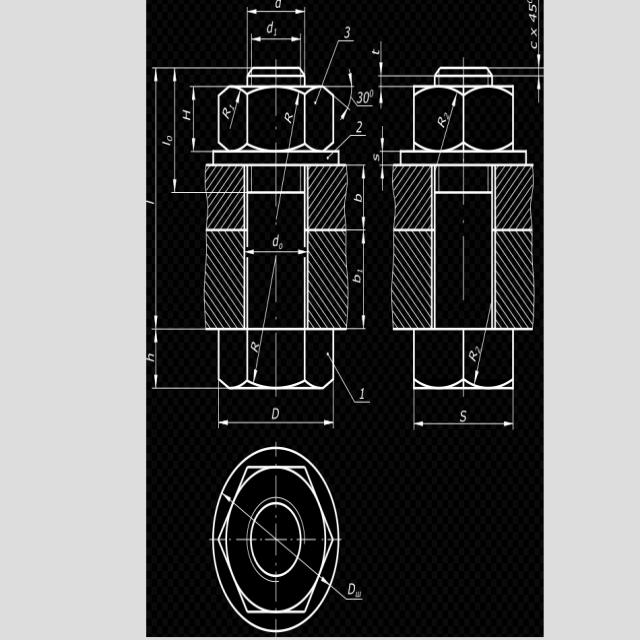marking_line: (255, 262, 278, 382), (473, 306, 492, 383), (153, 68, 158, 326), (220, 418, 333, 425), (340, 68, 353, 121), (415, 421, 513, 427), (173, 70, 177, 193), (361, 231, 366, 328), (230, 94, 243, 129), (246, 249, 306, 256), (361, 167, 367, 231), (190, 87, 196, 150), (248, 9, 304, 15), (252, 36, 300, 43), (154, 329, 158, 388), (379, 41, 385, 75), (379, 167, 386, 192), (379, 126, 385, 150), (378, 87, 384, 108)
numeric: (526, 0, 537, 51), (357, 89, 374, 105), (436, 111, 450, 128), (220, 103, 234, 119), (271, 235, 284, 251), (353, 267, 364, 285), (469, 345, 480, 362), (358, 384, 368, 402), (282, 111, 293, 123), (270, 406, 279, 420), (348, 581, 356, 595), (356, 120, 364, 134), (459, 408, 467, 422), (354, 192, 363, 204), (344, 24, 351, 39), (251, 341, 259, 354), (353, 591, 364, 599), (146, 353, 154, 363), (371, 48, 380, 56), (372, 152, 380, 161)
special_symbol: (321, 40, 344, 85), (335, 359, 358, 404)
